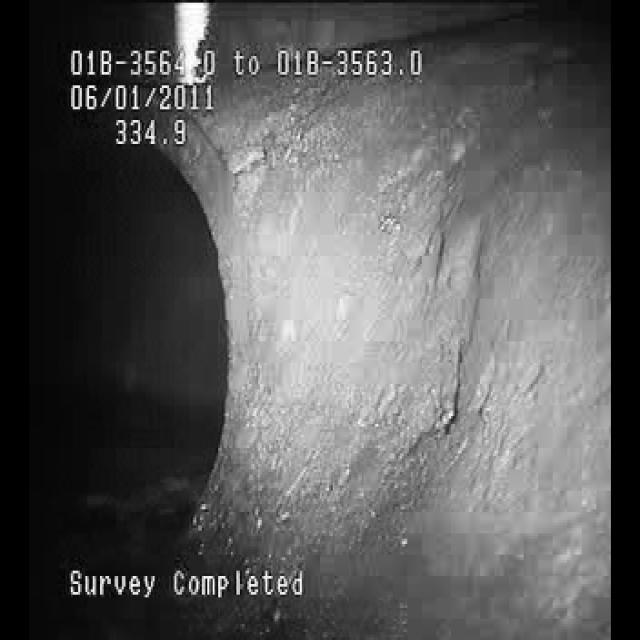Crack: (388, 210, 504, 480)
